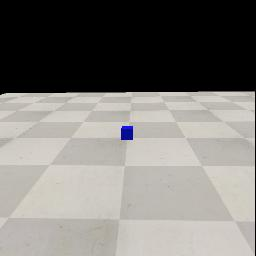box: (121, 126, 133, 140)
